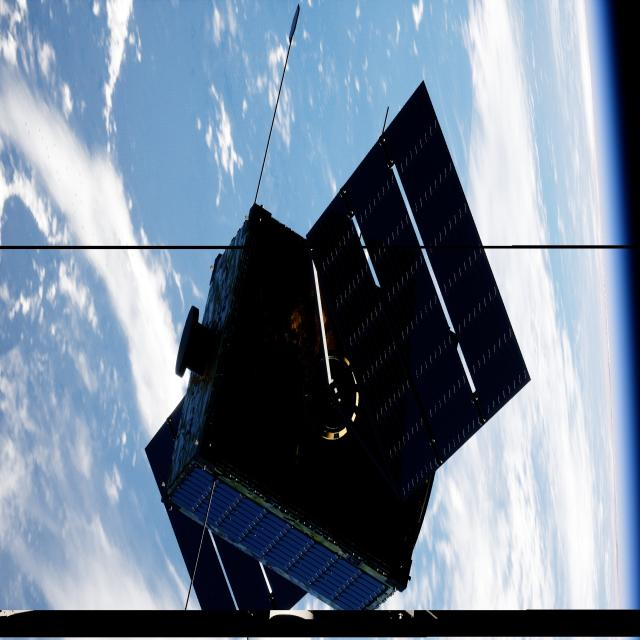satellite: (146, 84, 529, 618)
